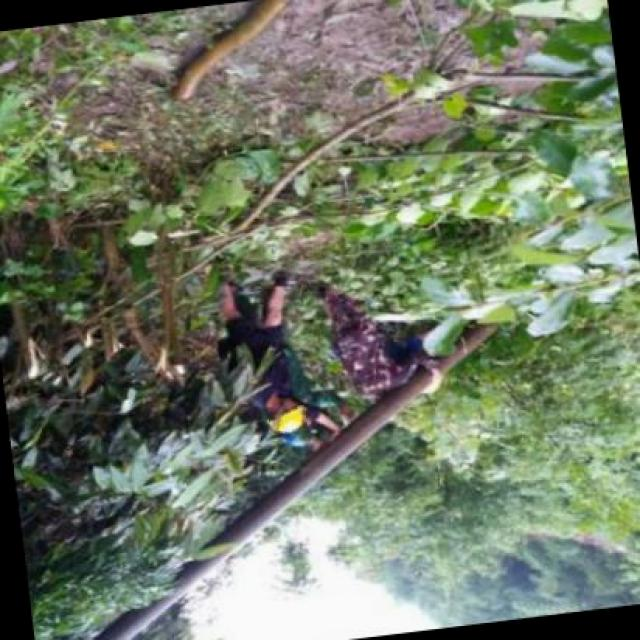helmet: (268, 406, 307, 434)
